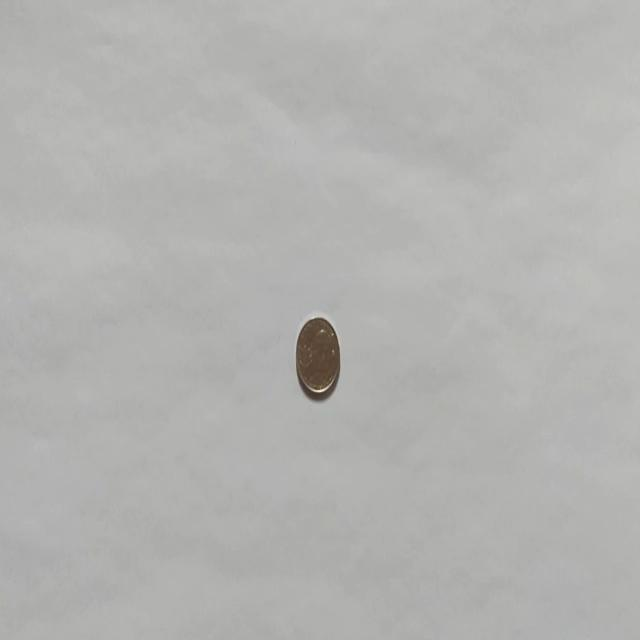seribu rupiah koin: (294, 314, 340, 398)
